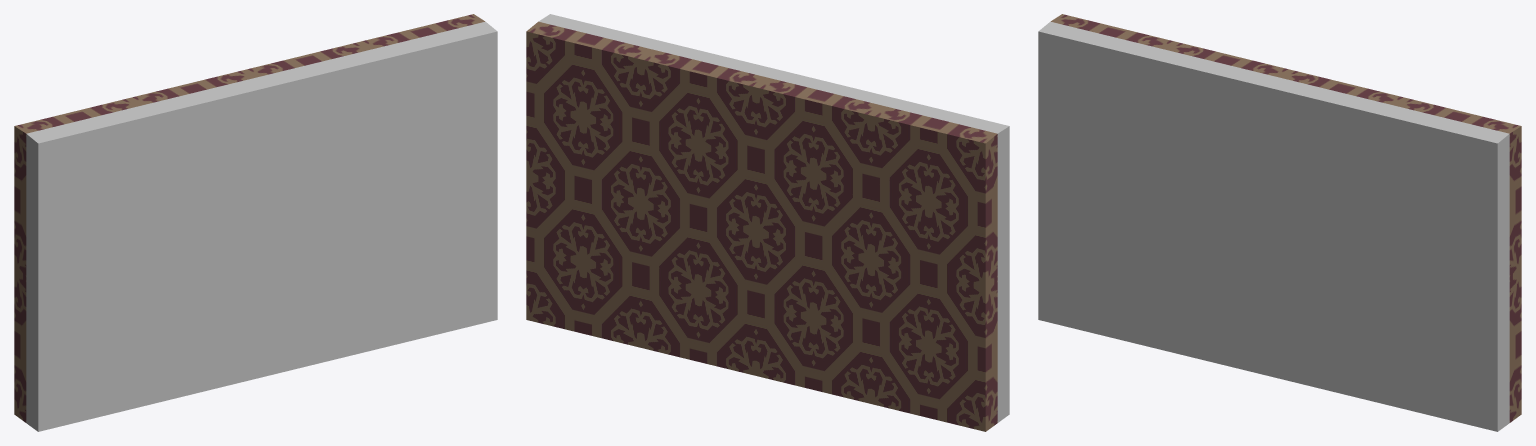
Rendered from WALL INTERIOR 02.fbx.
3 views of the same model, side by side, from view 1: azimuth 30°, elevation 25°; view 2: azimuth 150°, elevation 25°; view 3: azimuth 330°, elevation 25° (orthographic).
Parts seen in each view (by area): view 1: WallInterior02; view 2: WallInterior02; view 3: WallInterior02.
Part boxes in pixels (box(x1,y1,x2,y2)): WallInterior02: box(14, 14, 497, 431); WallInterior02: box(526, 14, 1009, 431); WallInterior02: box(1038, 14, 1521, 431).
Bounding box in the file's own units: 250 × 151 × 22.5.
